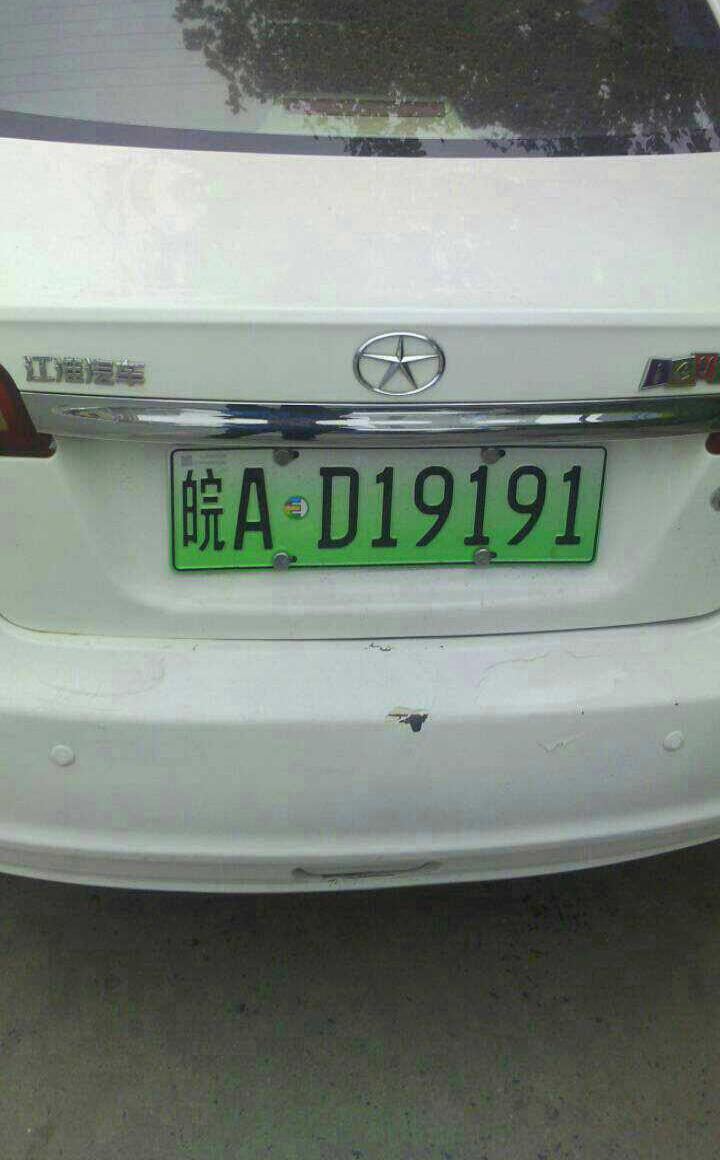car: (151, 439, 608, 578)
